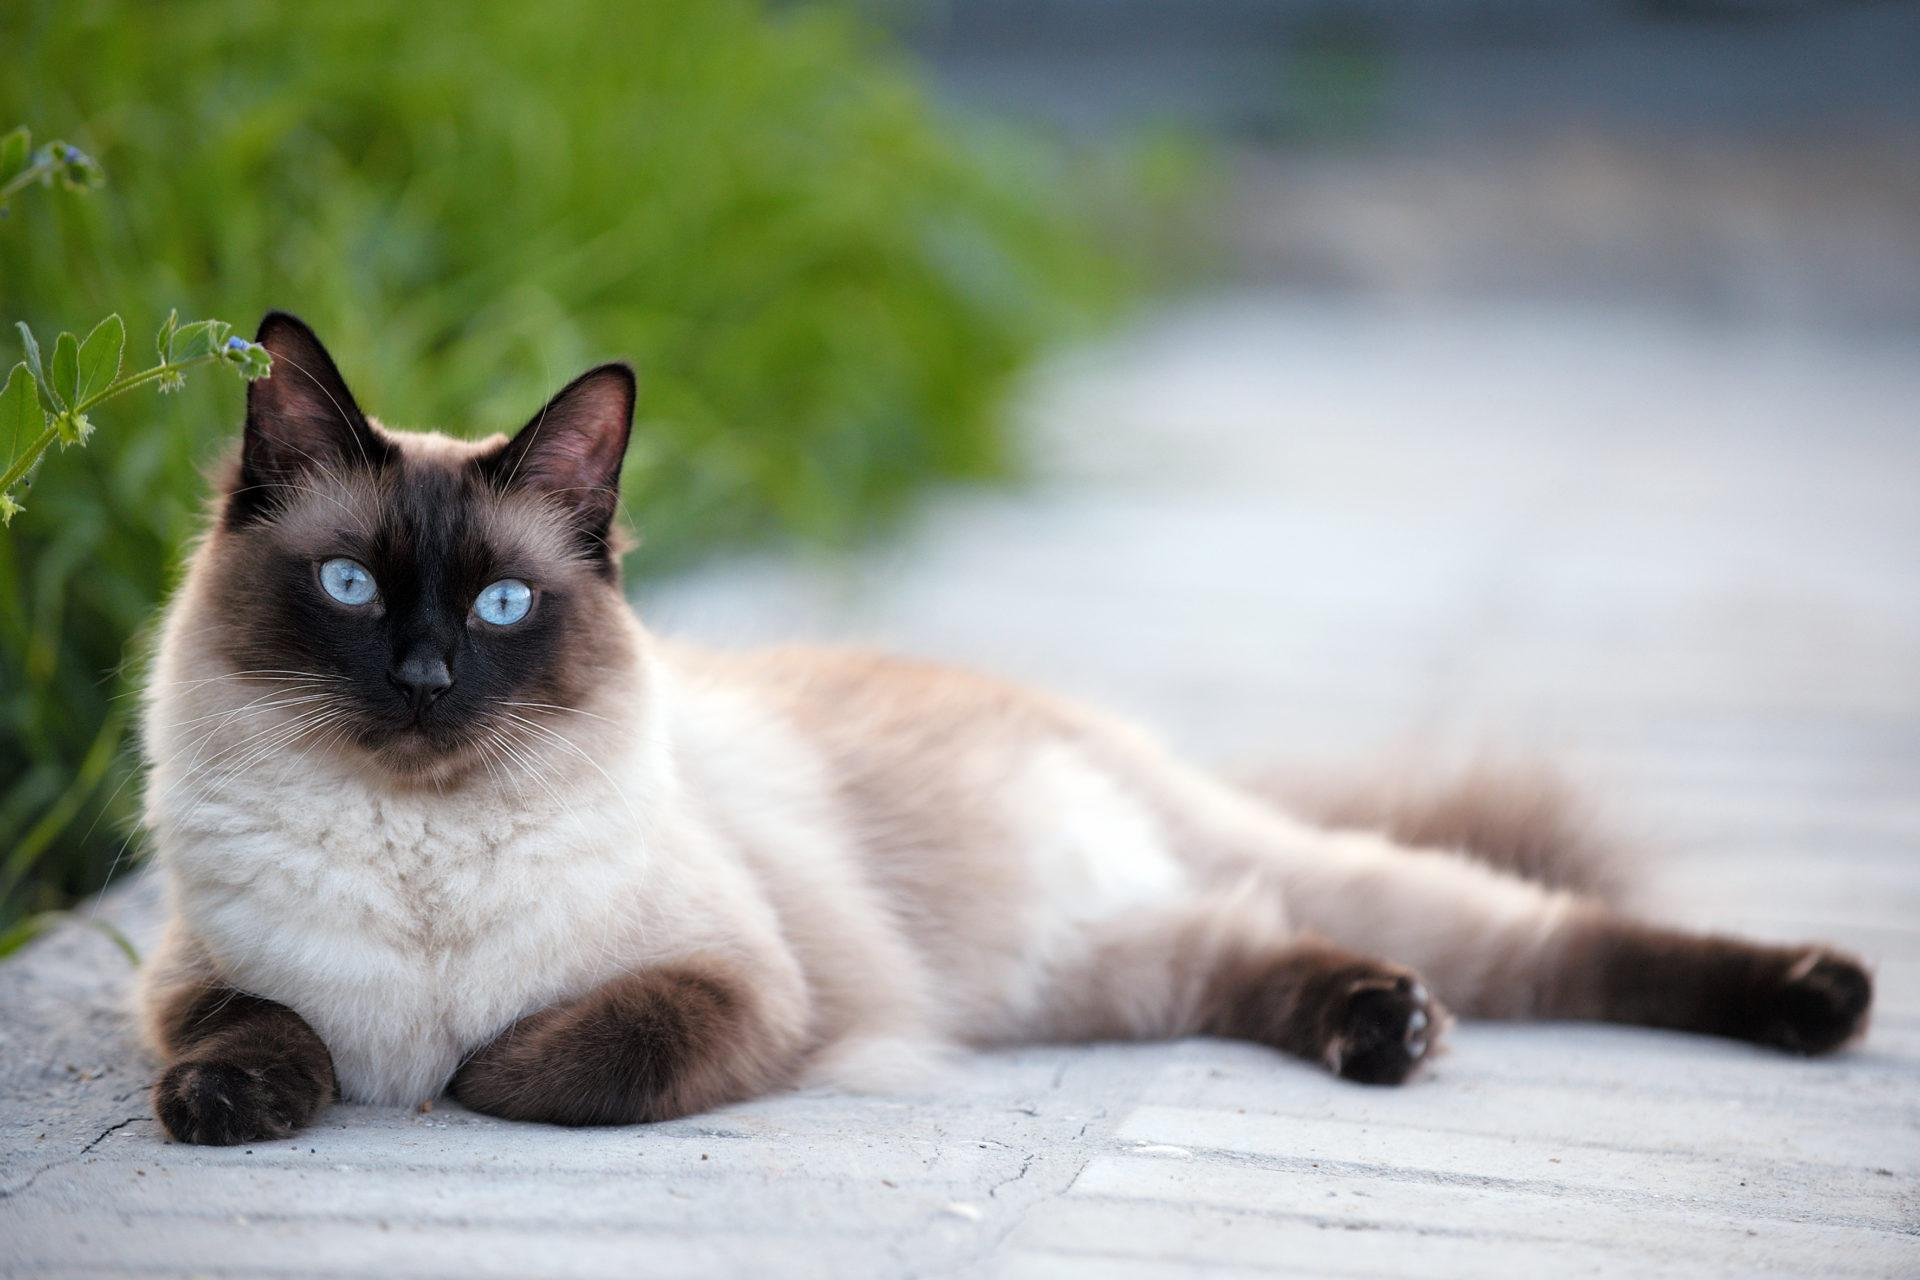siamese: (207, 306, 649, 789)
